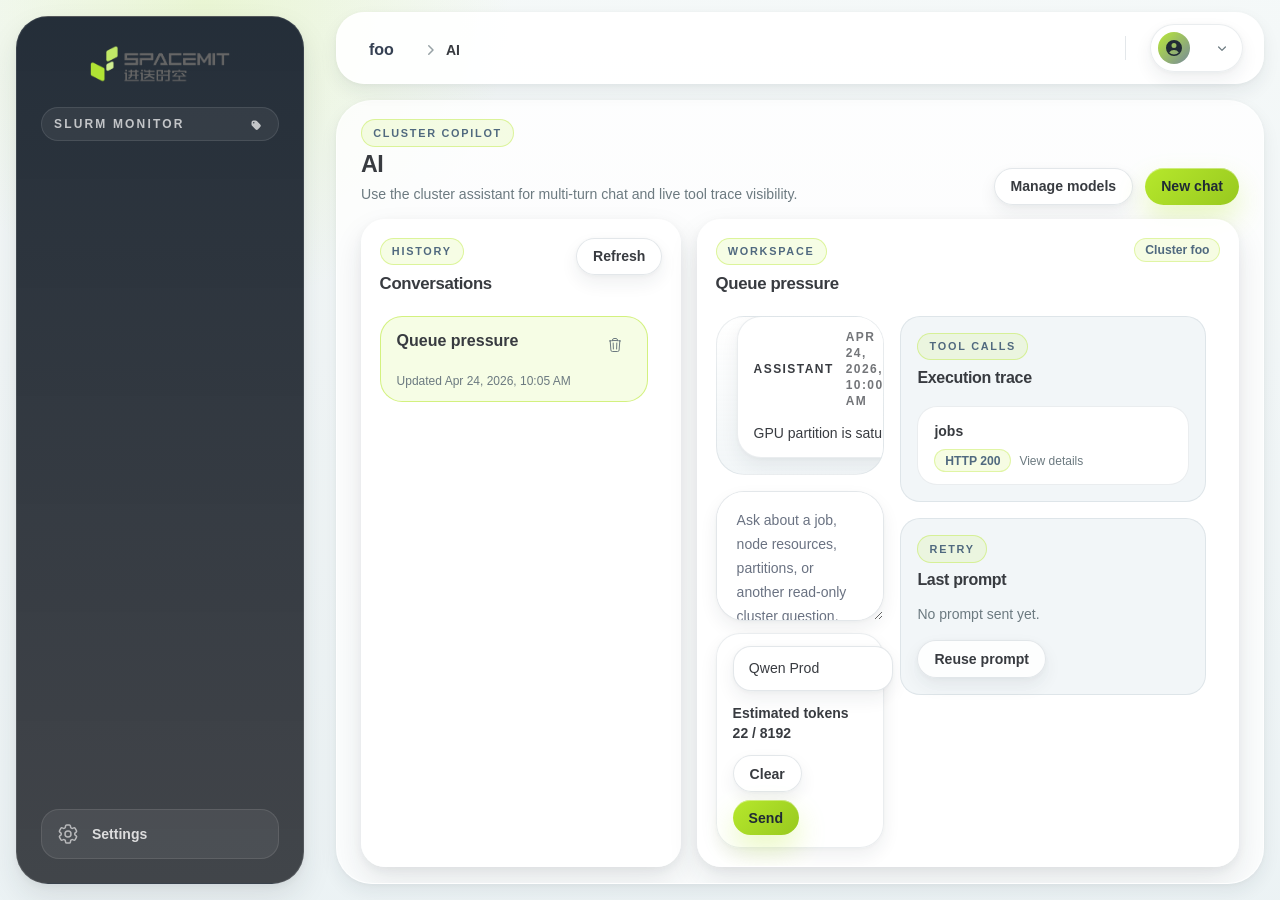
Test case: views/AssistantView.vue › loads AI model summaries and conversations
(page scrolled)
Check: the element with test id "assistant-model-picker" is shown, box [733,646,867,691]
Check: the text "10 jobs" is not shown
What coordinates should you click on to do the following:
click the button "jobs HTTP 200 View details"
I would click on:
 (1053, 447)
Its box is [934,421,1172,472].
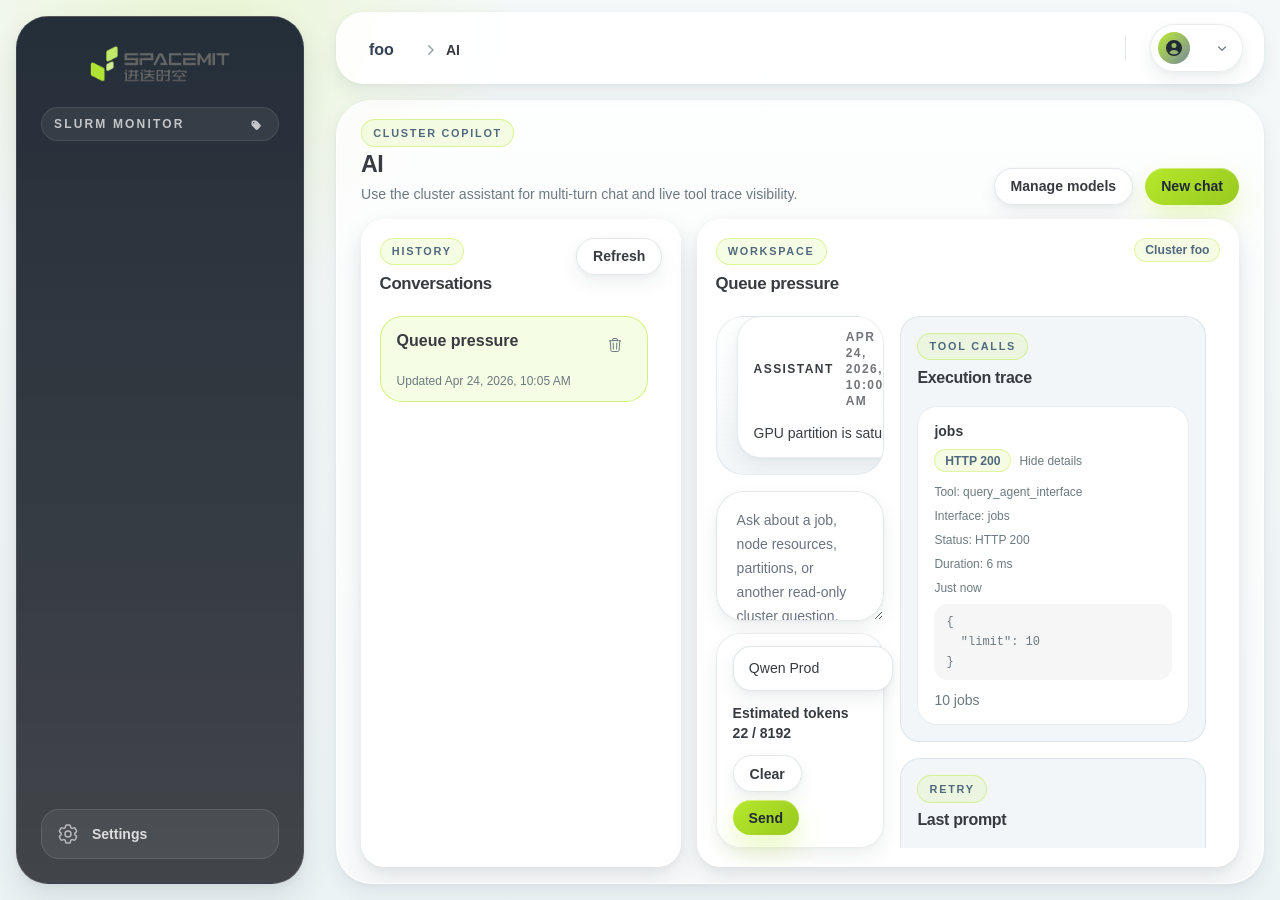
Check: the text "10 jobs" is shown, box [934,692,980,708]
Check: the text "Tool: query_agent_interface" is shown, box [934,486,1082,500]
